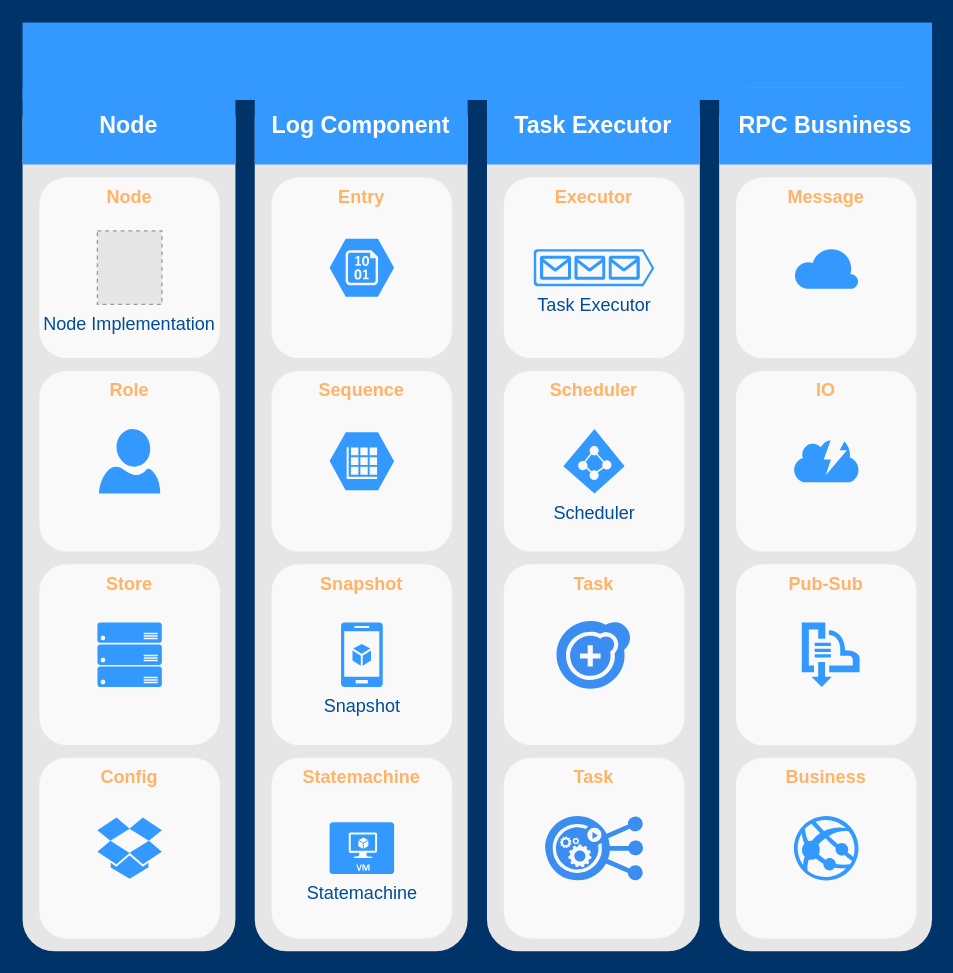
Some shapes in this 953 by 973 pixel diagram are drawn without their labels. Grey dashed boxes stand in for pictures. The shapes that lost their labels are listed below. From the top down, each one's centre as x and y in pixels, then its label:
At (x=476, y=60): "KRAFT CORE ARCHTECTURE | By Khigheess".
At (x=361, y=267): "Log Entry".
At (x=825, y=267): "RPC Message".
At (x=129, y=460): "Node Role".
At (x=361, y=461): "Log Sequence".
At (x=825, y=461): "Netty Connector".
At (x=129, y=654): "Node State Store".
At (x=593, y=654): "Election Timeout".
At (x=830, y=654): "Google Event Bus".
At (x=129, y=847): "Node Configuration".
At (x=593, y=847): "Log Replication".
At (x=825, y=847): "Node Business".
